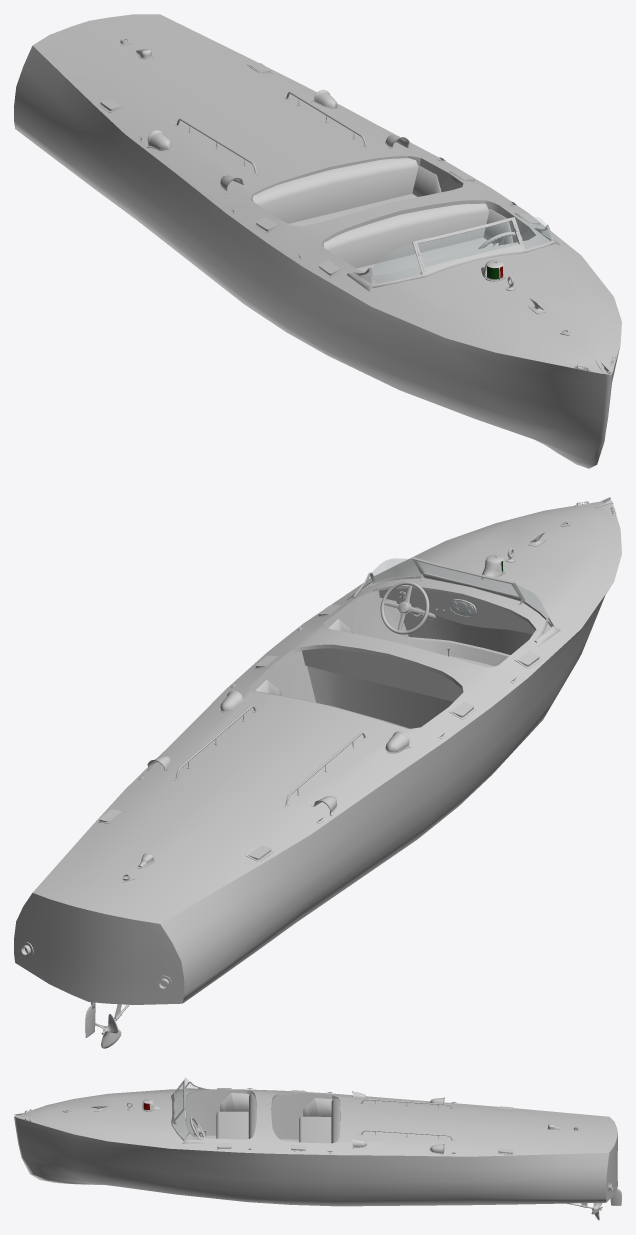
The picture shows the model from 3 angles, top to bottom: view 1: azimuth 30°, elevation 25°; view 2: azimuth 150°, elevation 25°; view 3: azimuth 270°, elevation 25°; orthographic projection. The views are drawn at different scales.
Parts seen in each view (by area): view 1: Hull_LOW003, Details_LOW001, Glass_LOW001; view 2: Hull_LOW003, Details_LOW001, Glass_LOW001; view 3: Hull_LOW003, Details_LOW001, Glass_LOW001.
Boxes of the visible parts, x1,y1,x2,y2 form: Hull_LOW003: (14,14,621,468); Details_LOW001: (98,39,616,375); Glass_LOW001: (361,217,551,283); Hull_LOW003: (14,501,621,1048); Details_LOW001: (21,497,616,989); Glass_LOW001: (362,558,552,633); Hull_LOW003: (14,1089,621,1220); Details_LOW001: (14,1080,612,1191); Glass_LOW001: (143,1078,197,1139).
Size of the model in its own units: 225 by 208 by 913.
